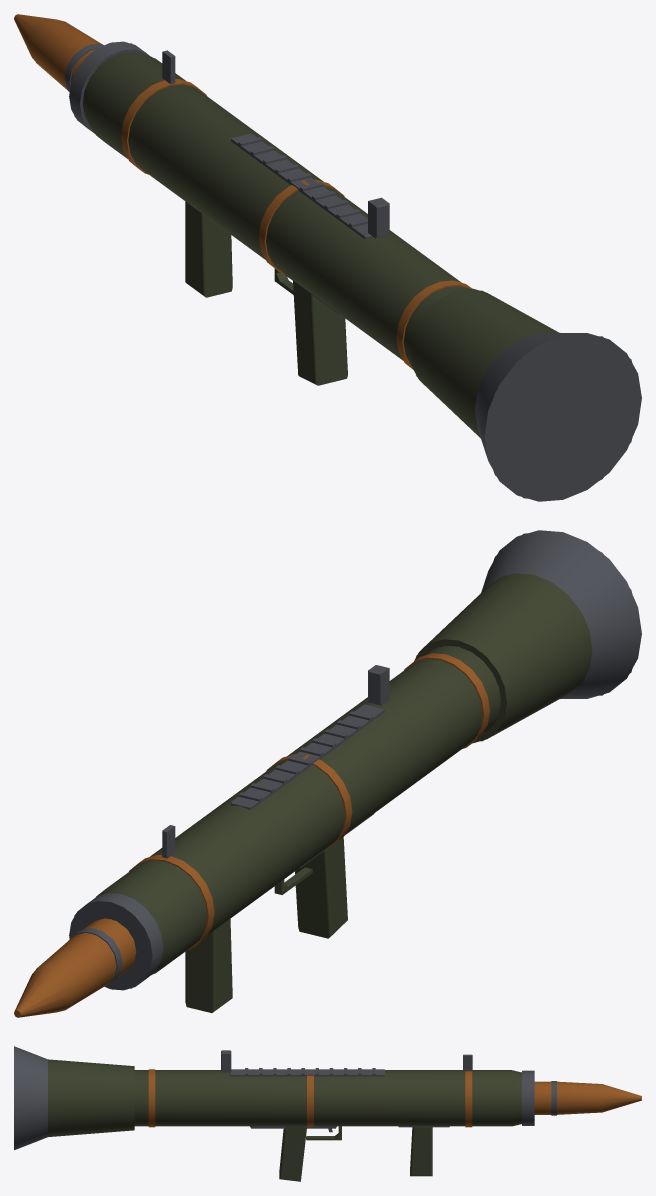
Rendered from rocket.glb.
3 views of the same model, one above another, from view 1: azimuth 30°, elevation 25°; view 2: azimuth 150°, elevation 25°; view 3: azimuth 270°, elevation 25° (orthographic). The views are drawn at different scales.
Parts seen in each view (by area): view 1: L0, L1; view 2: L0, L1; view 3: L0, L1.
Boxes of the visible parts, x1,y1,x2,y2 form: L0: (14,14,641,501); L1: (15,14,641,499); L0: (14,530,641,1017); L1: (14,533,632,1016); L0: (14,1046,641,1181); L1: (14,1046,641,1150).
Bounding box in the file's own units: 0.185 × 0.2475 × 1.11.
